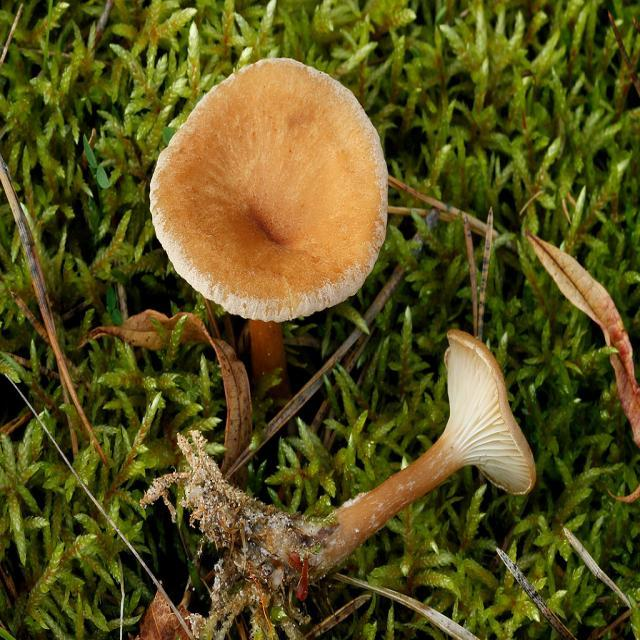Clitocybe maxima: (150, 60, 390, 376), (279, 330, 540, 573)
